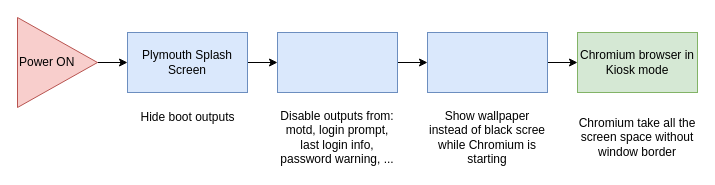
Image size: 715x185. Some labels were removed from this diagram. The shapes that lost their labels are listed below. From the top down, each one's centre as x and y in pixels, then its label:
(x=337, y=62): Automatic login black screen
(x=487, y=62): OpenBox Wallpaper
